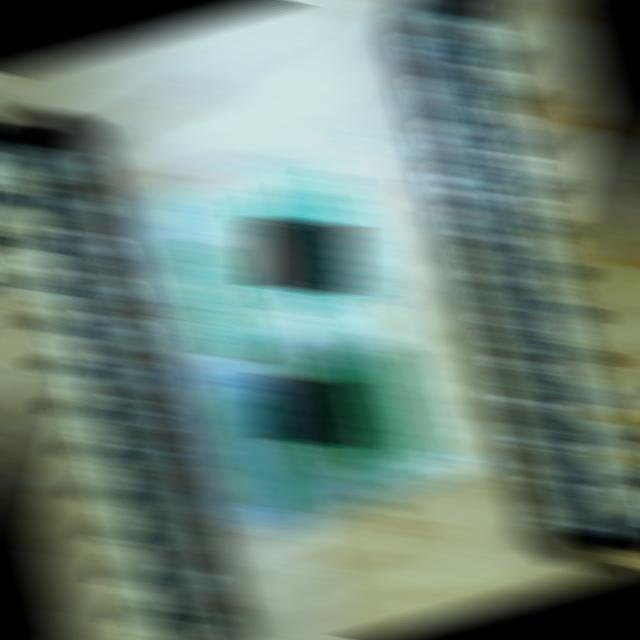Flathead_Block: (0, 104, 226, 640)
Phillips_Block: (405, 0, 640, 572)
Terminal_1: (175, 233, 254, 365), (220, 384, 299, 512)
Terminal_2: (274, 180, 349, 305), (241, 194, 317, 317), (290, 365, 365, 486), (324, 353, 399, 474), (358, 340, 432, 462)
